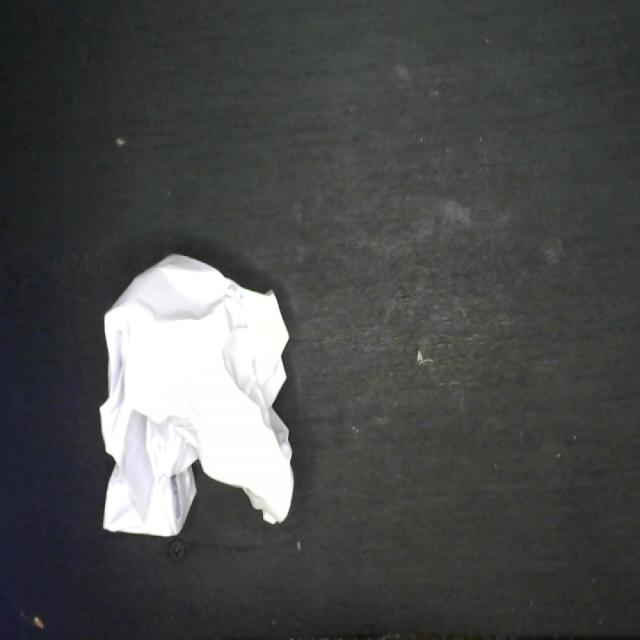biodegradable: (96, 249, 298, 539)
